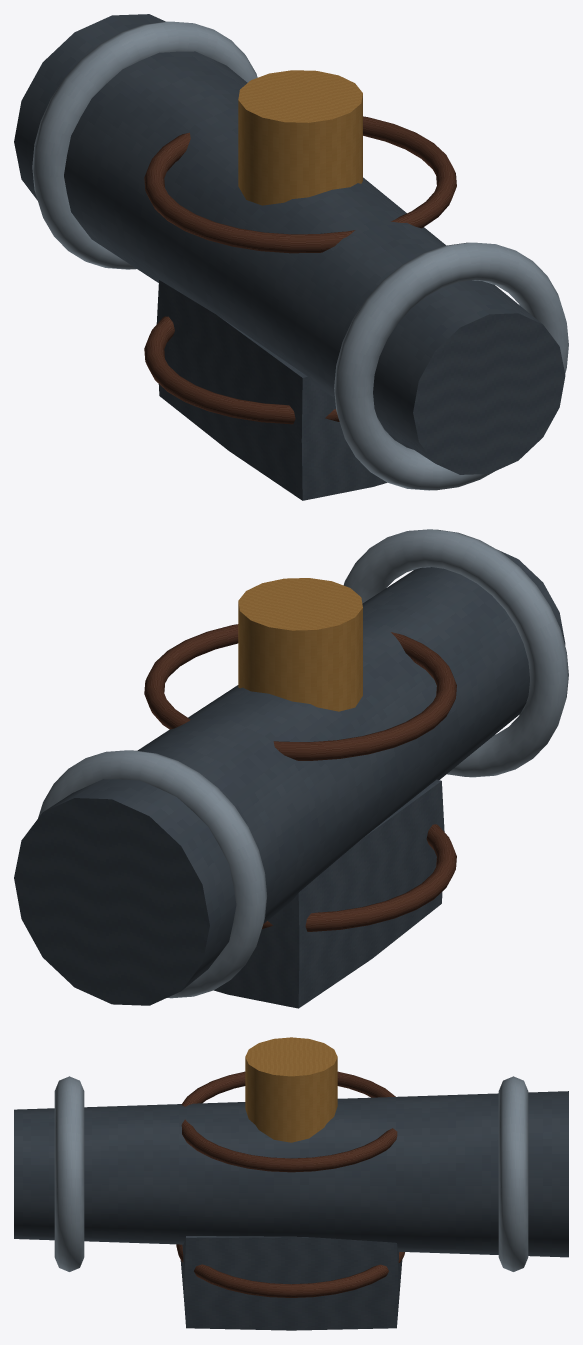
3 views of the same model, one above another, from view 1: azimuth 30°, elevation 25°; view 2: azimuth 150°, elevation 25°; view 3: azimuth 270°, elevation 25° (orthographic). The views are drawn at different scales.
Parts seen in each view (by area): view 1: iron.0, iron.3, steel.2, brass.4, steel.1, leather.6, leather.5; view 2: iron.0, iron.3, steel.2, brass.4, steel.1, leather.6, leather.5; view 3: iron.0, iron.3, brass.4, steel.1, steel.2, leather.6, leather.5.
Boxes of the visible parts, x1,y1,x2,y2 form: iron.0: [14, 14, 565, 474]; iron.3: [156, 280, 413, 500]; steel.2: [334, 242, 568, 490]; brass.4: [238, 70, 362, 205]; steel.1: [32, 21, 257, 269]; leather.6: [144, 116, 456, 253]; leather.5: [144, 316, 339, 424]; iron.0: [14, 549, 565, 1005]; iron.3: [214, 779, 444, 1008]; steel.2: [343, 529, 568, 777]; brass.4: [238, 578, 362, 711]; steel.1: [38, 750, 266, 998]; leather.6: [144, 624, 456, 760]; leather.5: [262, 824, 456, 931]; iron.0: [14, 1091, 568, 1257]; iron.3: [180, 1236, 402, 1330]; brass.4: [245, 1037, 337, 1142]; steel.1: [498, 1076, 528, 1271]; steel.2: [54, 1076, 84, 1271]; leather.6: [181, 1071, 397, 1172]; leather.5: [176, 1244, 404, 1297].
Size of the model in its own units: 0.1246 by 0.15 by 0.3.
4 materials, 4 textured.
